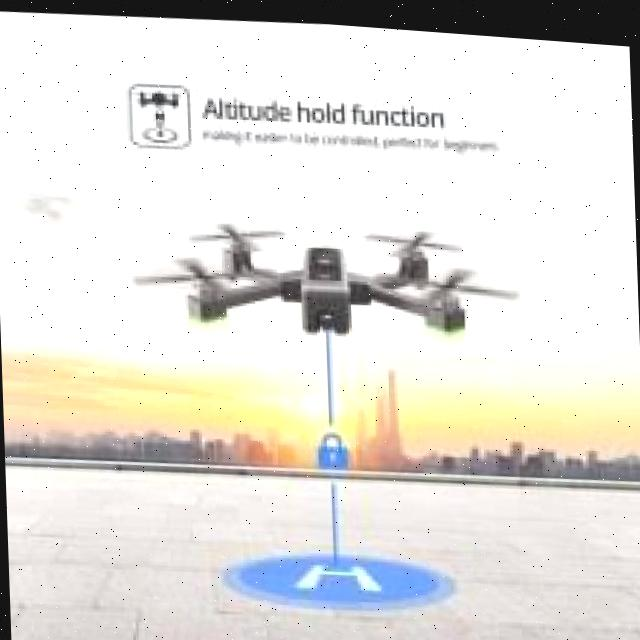drone: (128, 186, 512, 370)
